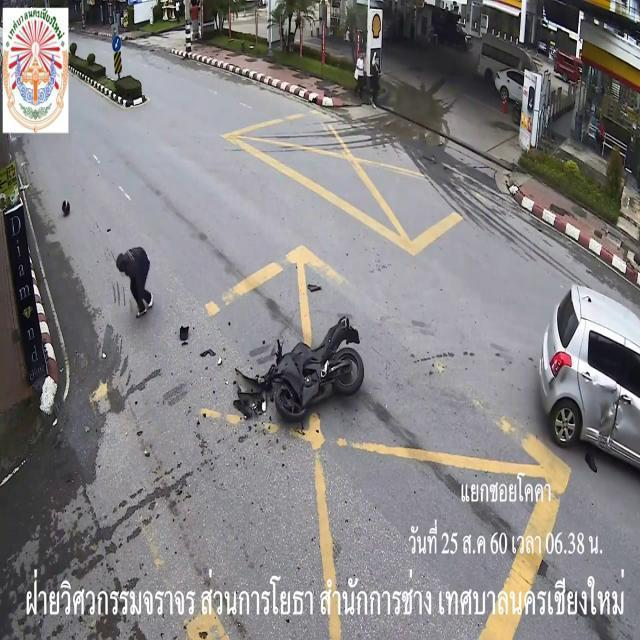accident: (230, 285, 640, 481)
